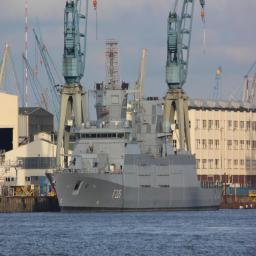Fragata: (45, 45, 225, 216)
